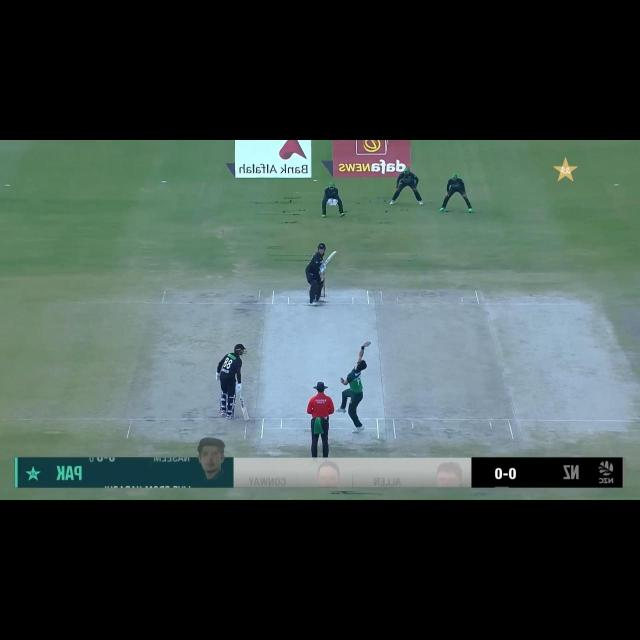bat: (324, 248, 338, 267), (240, 397, 250, 423)
toe: (330, 248, 338, 257), (243, 414, 250, 421)
